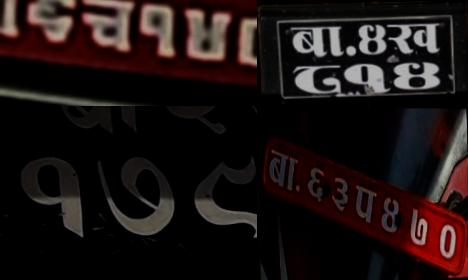0: (236, 10, 257, 77), (438, 216, 458, 259)
1: (14, 146, 86, 246), (136, 0, 180, 62), (340, 58, 391, 96)
2: (158, 106, 230, 141)
3: (331, 171, 351, 213)
4: (179, 0, 237, 69), (387, 57, 442, 93), (351, 22, 388, 58), (378, 191, 405, 236)
6: (24, 0, 79, 43), (305, 161, 328, 200)
7: (89, 150, 179, 252), (408, 200, 433, 248)
8: (287, 60, 344, 97)
9: (181, 145, 257, 250)
ba: (49, 106, 149, 140), (286, 21, 348, 62), (266, 142, 300, 194)
cha: (77, 0, 139, 53)
kha: (384, 17, 444, 58)
pa: (353, 178, 378, 227)
